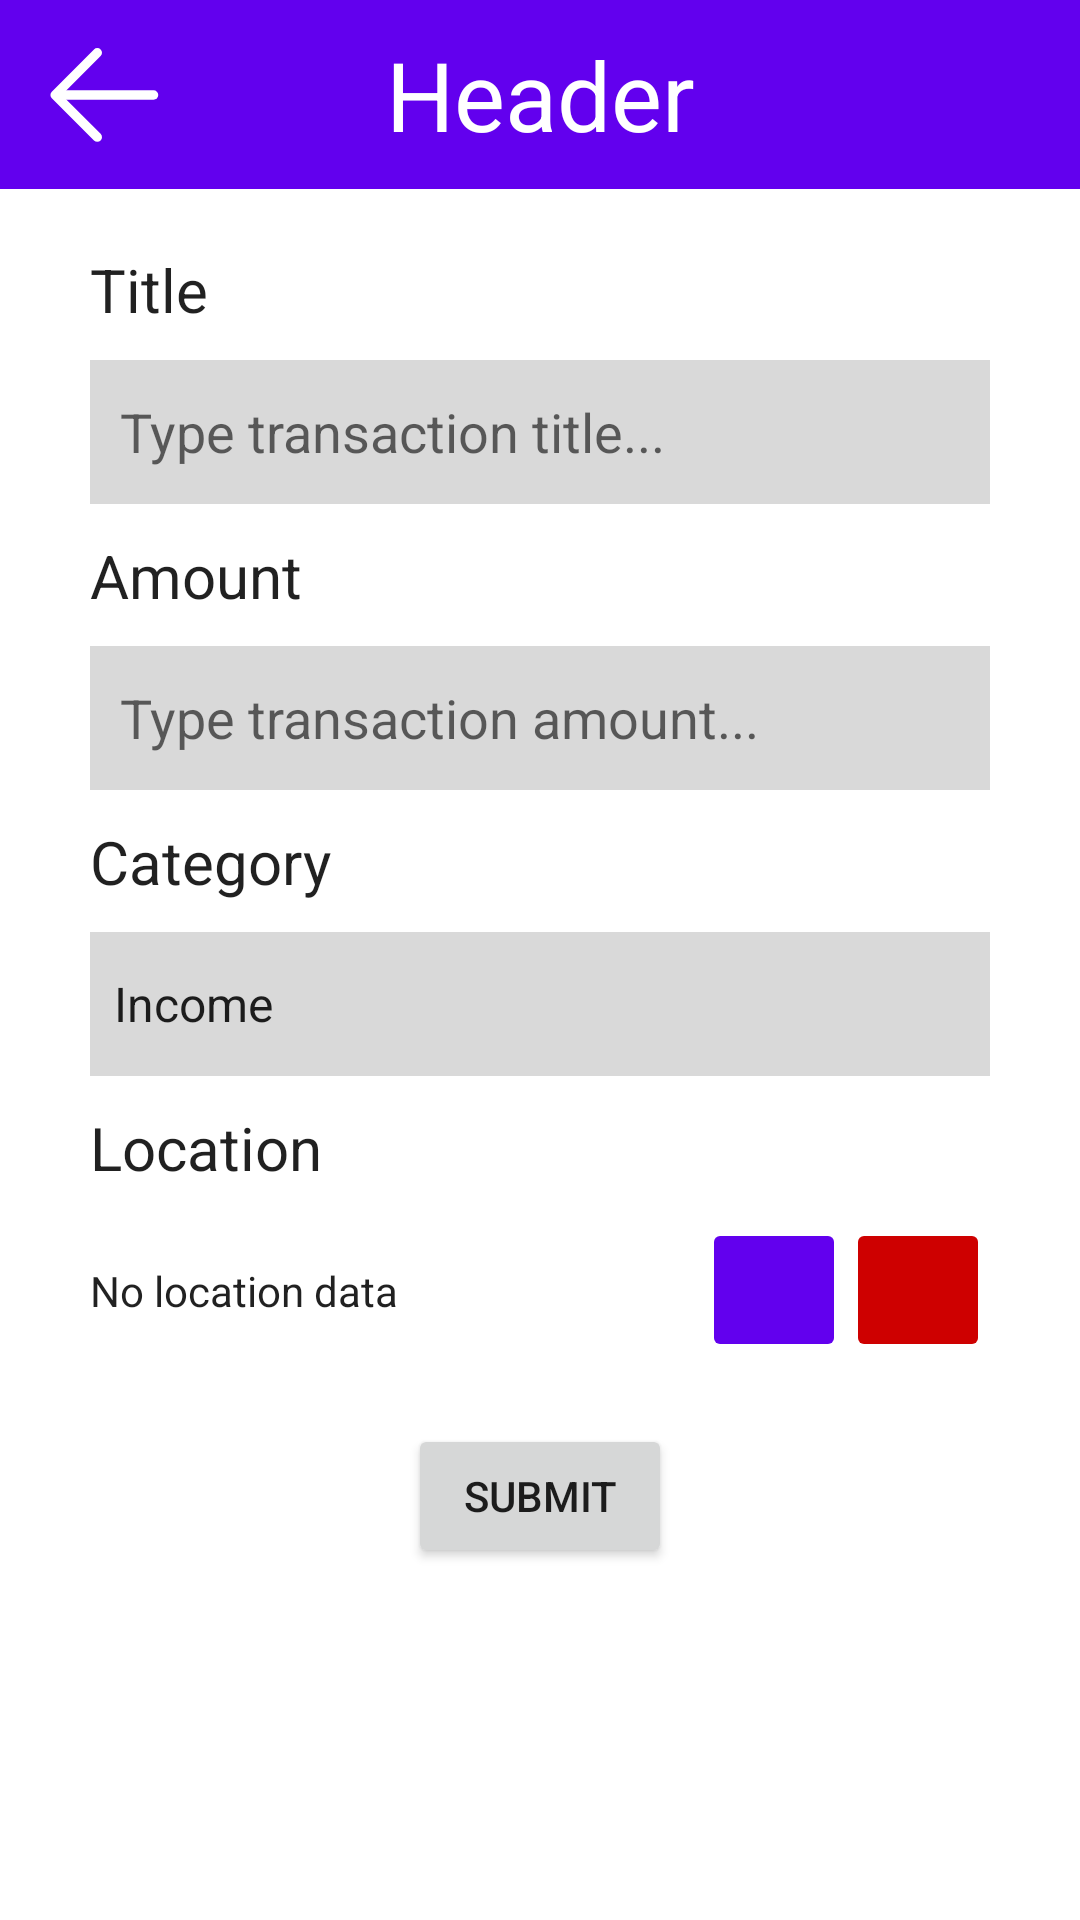

Icons on this 1080w x 1920h Android screen, each with the point to tap as (x,y):
Go back: (104,95)
